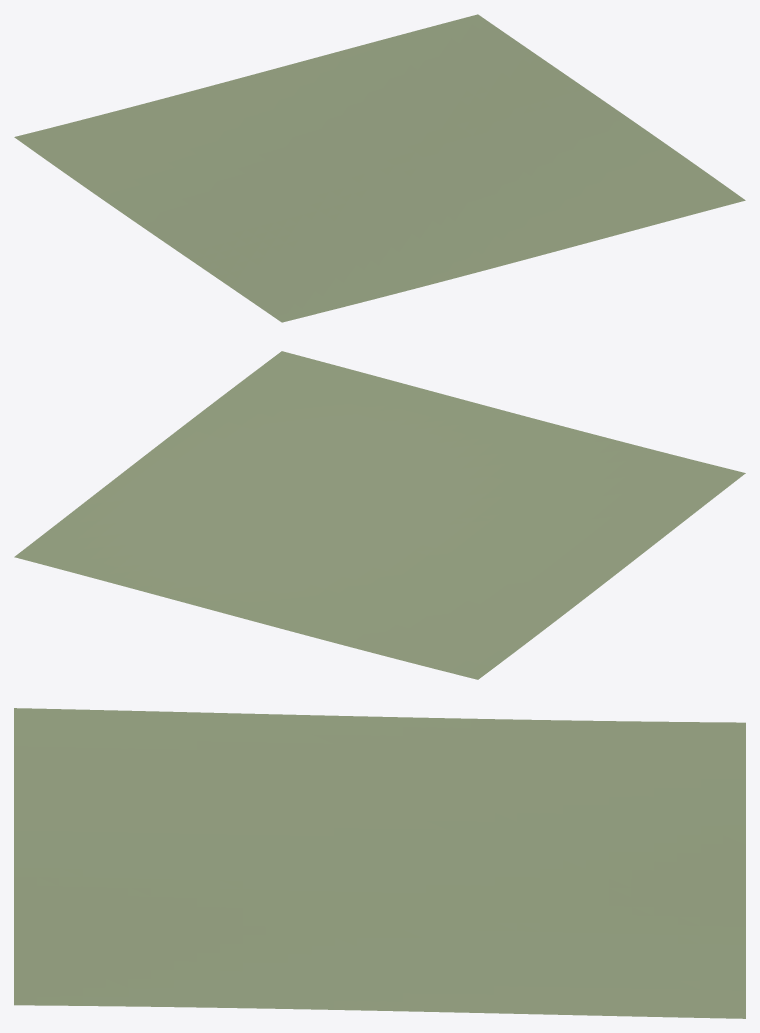
The model's file is expanse-0-18.glb.
The picture shows the model from 3 angles, top to bottom: view 1: azimuth 30°, elevation 25°; view 2: azimuth 150°, elevation 25°; view 3: azimuth 270°, elevation 25°; orthographic projection. The views are drawn at different scales.
Parts seen in each view (by area): view 1: expanse-0-18; view 2: expanse-0-18; view 3: expanse-0-18.
Part boxes in pixels (box(x1,y1,x2,y2)): expanse-0-18: box(14, 14, 745, 322); expanse-0-18: box(14, 351, 745, 679); expanse-0-18: box(14, 708, 745, 1018).
Size of the model in its own units: 256 by 10.27 by 256.
